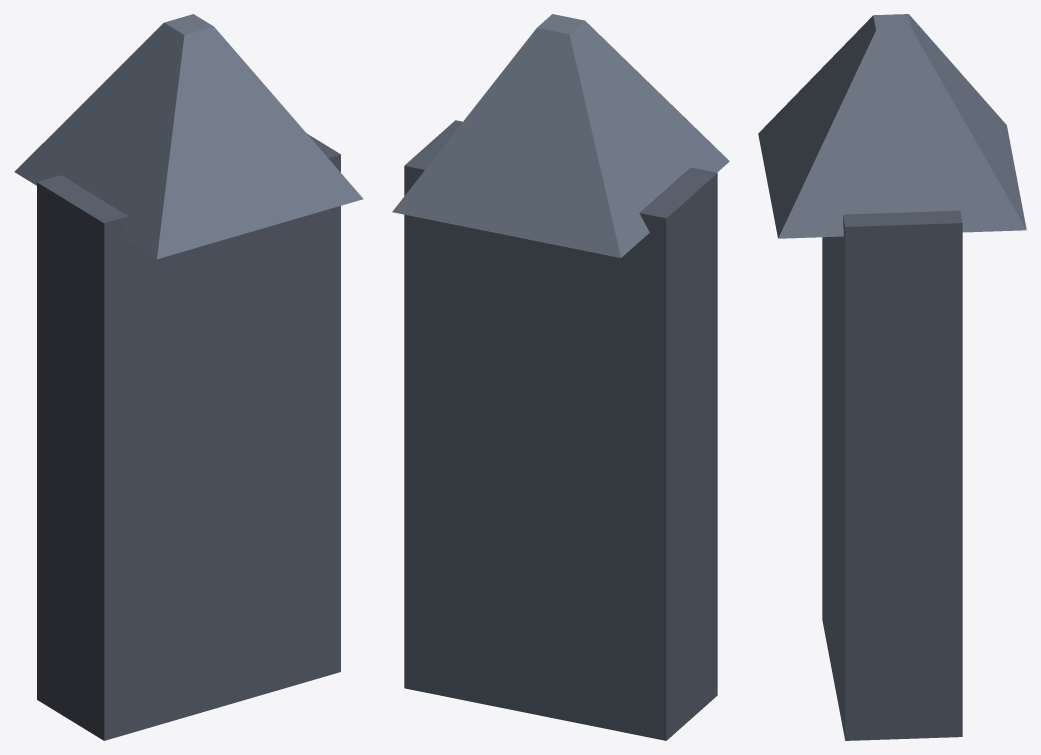
Rendered from EXT_GraveMarker_03.glb.
3 renders of one model, left to right at view 1: azimuth 30°, elevation 25°; view 2: azimuth 150°, elevation 25°; view 3: azimuth 270°, elevation 25°, orthographic.
Parts seen in each view (by area): view 1: EXT_GraveMarker_03; view 2: EXT_GraveMarker_03; view 3: EXT_GraveMarker_03.
Part boxes in pixels (bbox=[...]): EXT_GraveMarker_03: bbox=[14, 14, 363, 740]; EXT_GraveMarker_03: bbox=[392, 14, 729, 740]; EXT_GraveMarker_03: bbox=[758, 14, 1026, 740].
Size of the model in its own units: 0.6302 by 1.55 by 0.5756.
